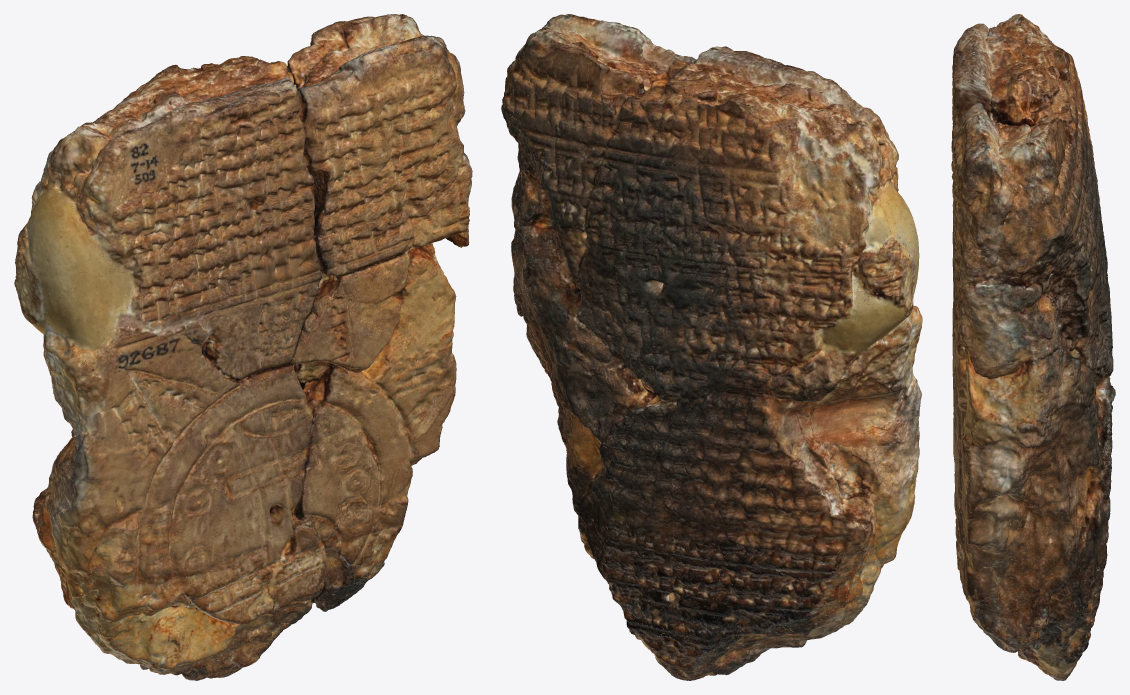
File: babylonian_map_of_the_world_tablet_-_imago_mundi.glb
The picture shows the model from 3 angles, left to right: view 1: azimuth 30°, elevation 25°; view 2: azimuth 150°, elevation 25°; view 3: azimuth 270°, elevation 25°; orthographic projection. The views are drawn at different scales.
Visible parts, largest first — view 1: Object_2; view 2: Object_2; view 3: Object_2.
Part boxes in pixels (left/top/right/bottom): Object_2: left=14, top=14, right=472, bottom=680; Object_2: left=501, top=14, right=922, bottom=680; Object_2: left=951, top=14, right=1115, bottom=680.
Bounding box in the file's own units: 85.19 × 121 × 29.35.
Materials: 1 (1 with a texture image).
